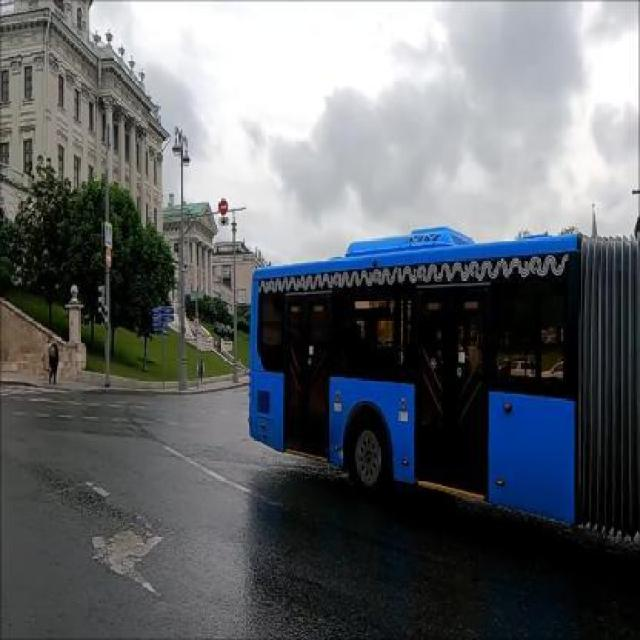bus: (250, 217, 630, 519)
